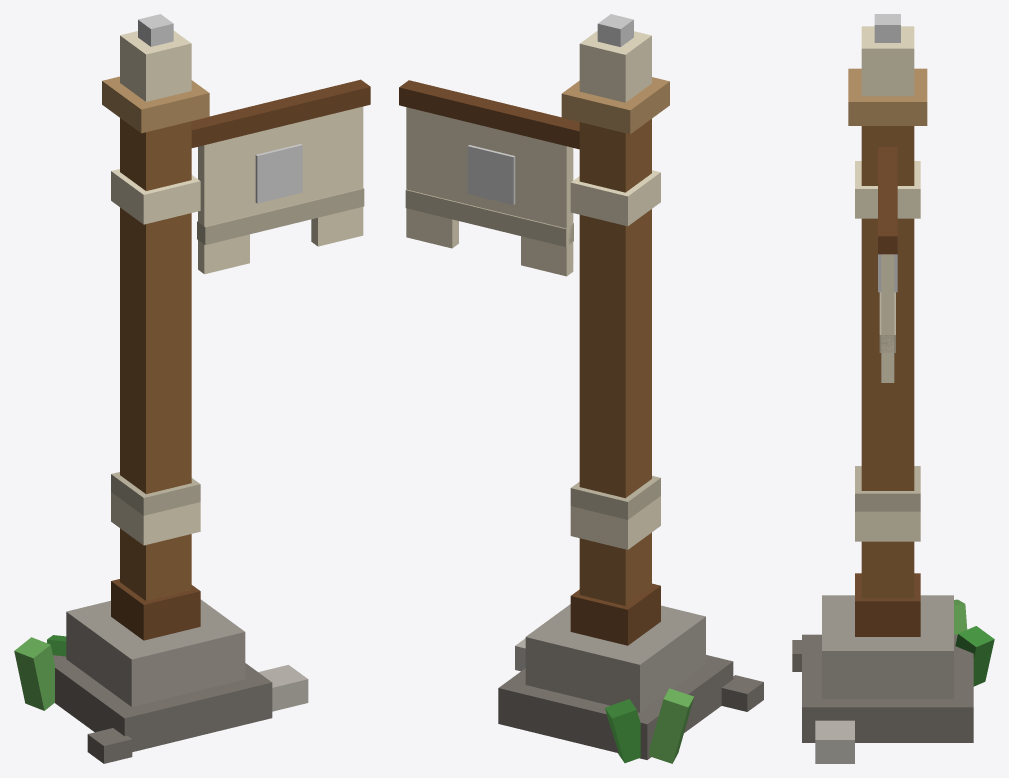
File: territory-marker-neutral.glb
3 renders of one model, left to right at view 1: azimuth 30°, elevation 25°; view 2: azimuth 150°, elevation 25°; view 3: azimuth 270°, elevation 25°, orthographic.
Parts seen in each view (by area): view 1: marker-post, banner; view 2: marker-post, banner; view 3: marker-post, banner.
Boxes of the visible parts, x1,y1,x2,y2 form: marker-post: (14, 14, 308, 763); banner: (191, 79, 370, 274); marker-post: (498, 14, 763, 763); banner: (399, 80, 579, 276); marker-post: (792, 14, 994, 763); banner: (878, 147, 897, 382).
Size of the model in its own units: 0.5581 by 1.15 by 0.3071.
